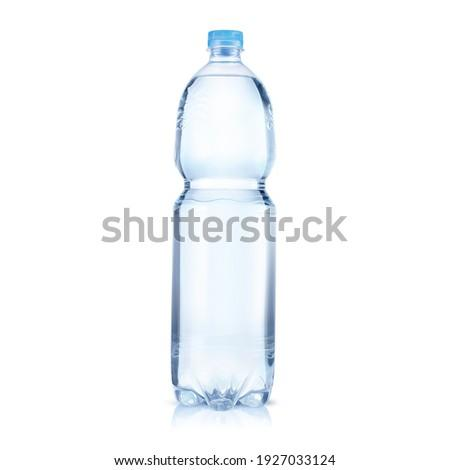bottle: (163, 16, 291, 431)
